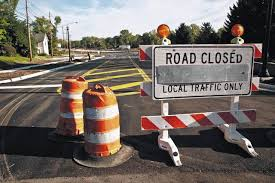barrel: (84, 86, 119, 156), (54, 78, 87, 135)
